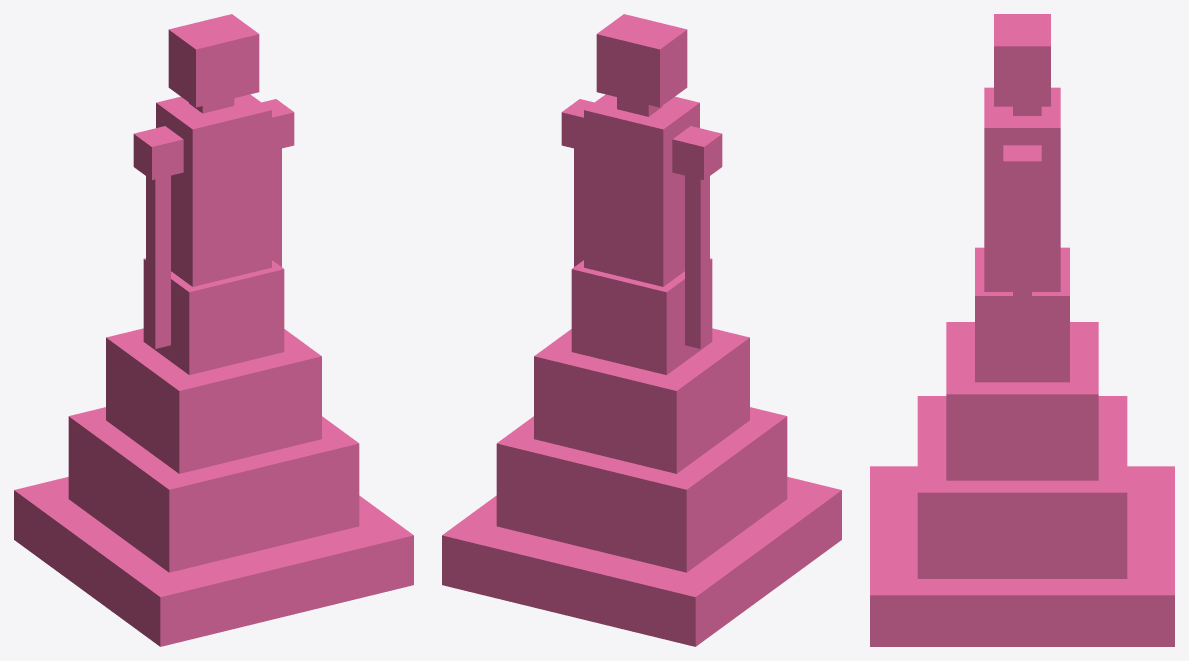
Rendered from SpectralScary01.fbx.
3 views of the same model, side by side, from view 1: azimuth 30°, elevation 25°; view 2: azimuth 150°, elevation 25°; view 3: azimuth 270°, elevation 25° (orthographic). The views are drawn at different scales.
Visible parts, largest first — view 1: Matrix, Matrix_1, Matrix_2; view 2: Matrix, Matrix_1, Matrix_2; view 3: Matrix, Matrix_1, Matrix_2.
Boxes of the visible parts, x1,y1,x2,y2 form: Matrix: (14, 94, 413, 646); Matrix_1: (133, 99, 294, 348); Matrix_2: (168, 14, 259, 107); Matrix: (442, 94, 841, 646); Matrix_1: (561, 99, 722, 348); Matrix_2: (596, 14, 687, 107); Matrix: (870, 87, 1174, 646); Matrix_1: (1003, 145, 1041, 372); Matrix_2: (994, 14, 1050, 106).
Size of the model in its own units: 32 by 64 by 32.
